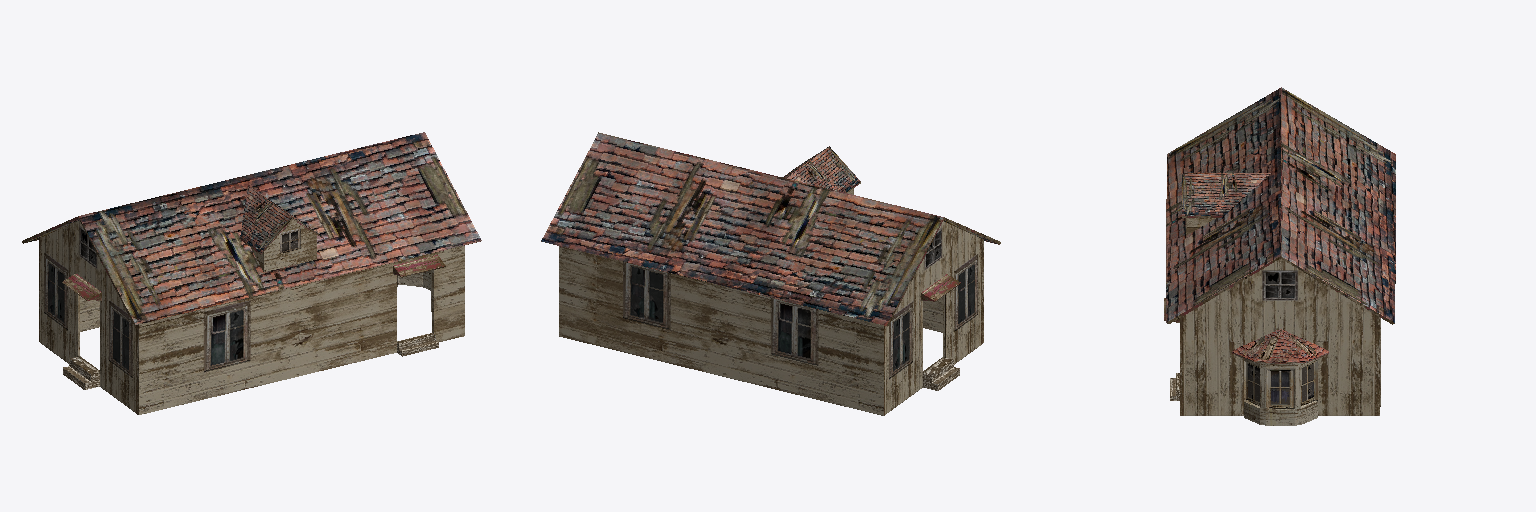
The picture shows the model from 3 angles: view 1: azimuth 30°, elevation 25°; view 2: azimuth 150°, elevation 25°; view 3: azimuth 270°, elevation 25°; orthographic projection.
Visible parts, largest first — view 1: casa1_Casa; view 2: casa1_Casa; view 3: casa1_Casa.
Boxes of the visible parts, box(x1,y1,x2,y2) form: casa1_Casa: box(22, 132, 481, 414); casa1_Casa: box(541, 132, 1000, 415); casa1_Casa: box(1164, 87, 1395, 425).
Bounding box in the file's own units: 10.26 × 4.45 × 5.68.
1 materials, 1 textured.